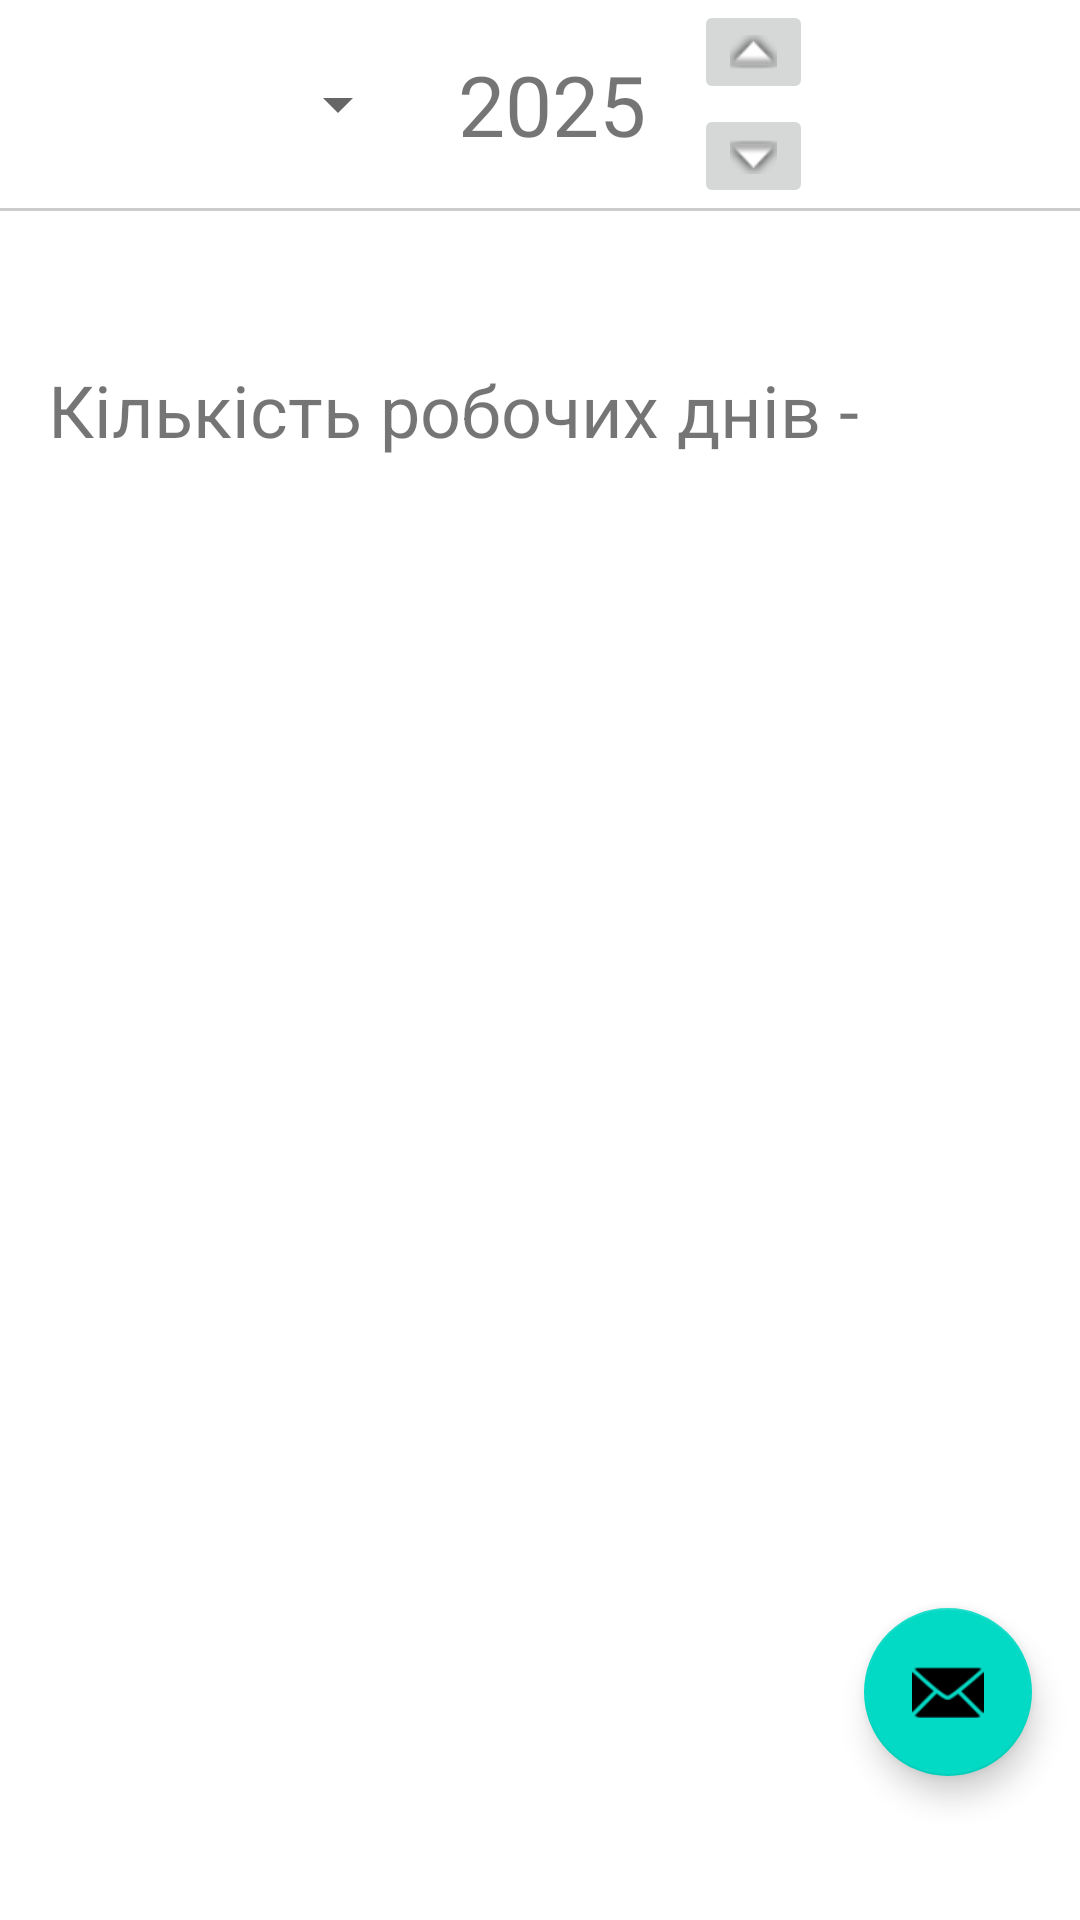

Where to tap for icons on this 1080w x 1920h app screen, as point (x, y):
arrow down float: point (753, 156)
arrow up float: point (753, 52)
send mail: point (948, 1692)
